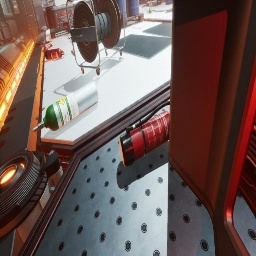0: (32, 81, 98, 132), (146, 7, 152, 13), (99, 40, 101, 44)
FireExtinguisher ]: (119, 101, 170, 167), (45, 48, 65, 60), (42, 43, 53, 52), (63, 22, 71, 28)
FirstAidBox ,: (58, 21, 62, 27)
NitrogenTank ,: (146, 0, 158, 7), (134, 18, 136, 20), (84, 0, 87, 1)
SafetySwitchPanel ,: (11, 0, 20, 14)
